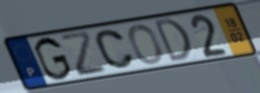2: (189, 11, 231, 60)
C: (94, 28, 138, 71)
D: (152, 16, 195, 65)
G: (33, 36, 74, 82)
O: (127, 23, 165, 66)
Z: (57, 29, 110, 79)
